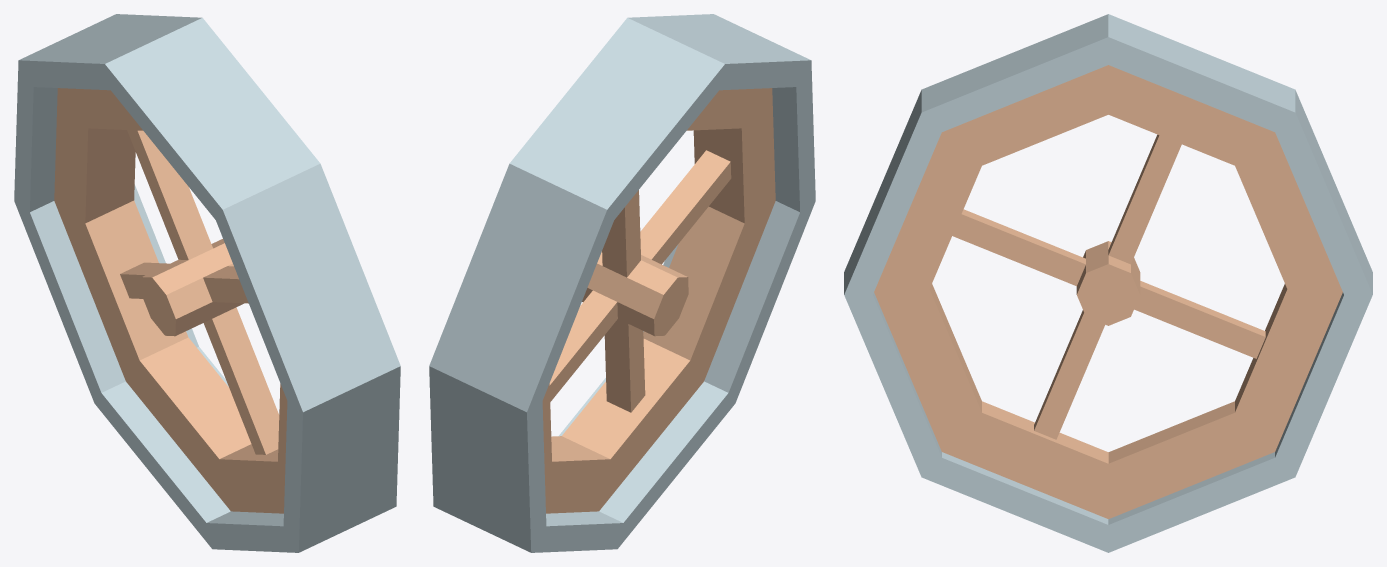
File: wheel.glb
The picture shows the model from 3 angles, left to right: view 1: azimuth 30°, elevation 25°; view 2: azimuth 150°, elevation 25°; view 3: azimuth 270°, elevation 25°; orthographic projection. The views are drawn at different scales.
Visible parts, largest first — view 1: wheel; view 2: wheel; view 3: wheel.
Boxes of the visible parts, x1,y1,x2,y2 form: wheel: (14,14,400,552); wheel: (429,14,815,552); wheel: (844,14,1372,552).
Size of the model in its own units: 0.2076 by 0.5162 by 0.5063.
